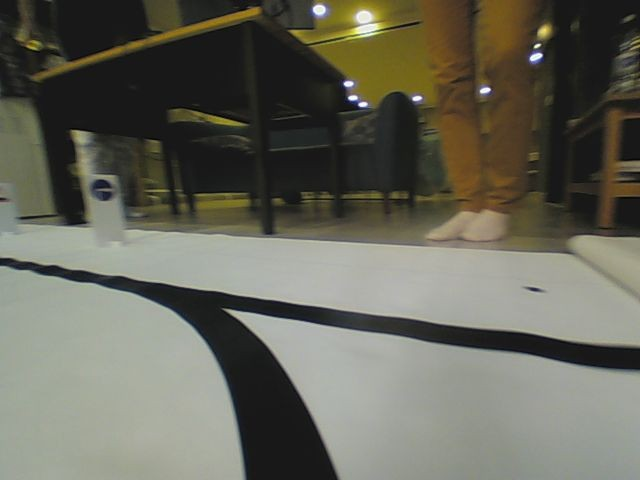Right: (89, 178, 115, 203)
